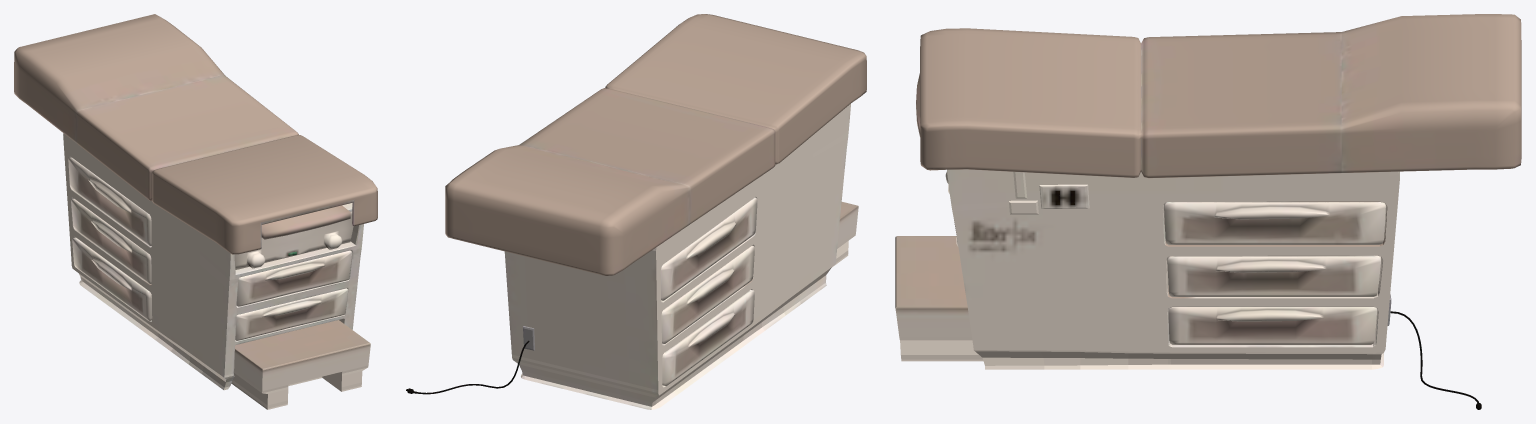
The model's file is OBJ-exam_table.glb.
3 views of the same model, side by side, from view 1: azimuth 30°, elevation 25°; view 2: azimuth 150°, elevation 25°; view 3: azimuth 270°, elevation 25° (orthographic). The views are drawn at different scales.
Parts seen in each view (by area): view 1: Base; view 2: Base; view 3: Base.
Boxes of the visible parts, box(x1,y1,x2,y2) form: Base: box(14, 14, 377, 409); Base: box(406, 14, 866, 409); Base: box(895, 14, 1521, 409).
Size of the model in its own units: 0.9151 by 0.9171 by 1.9.
Materials: 1 (1 with a texture image).
